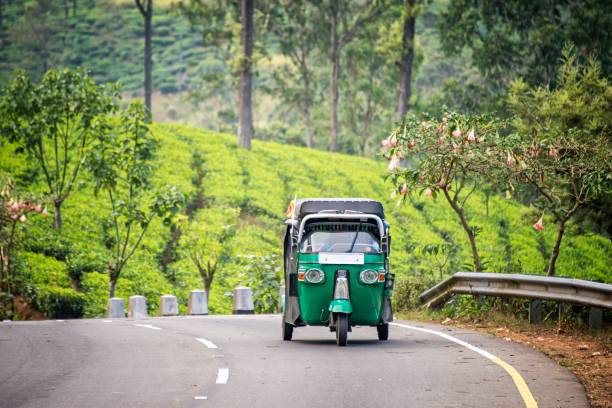threewheel: (281, 197, 394, 347)
